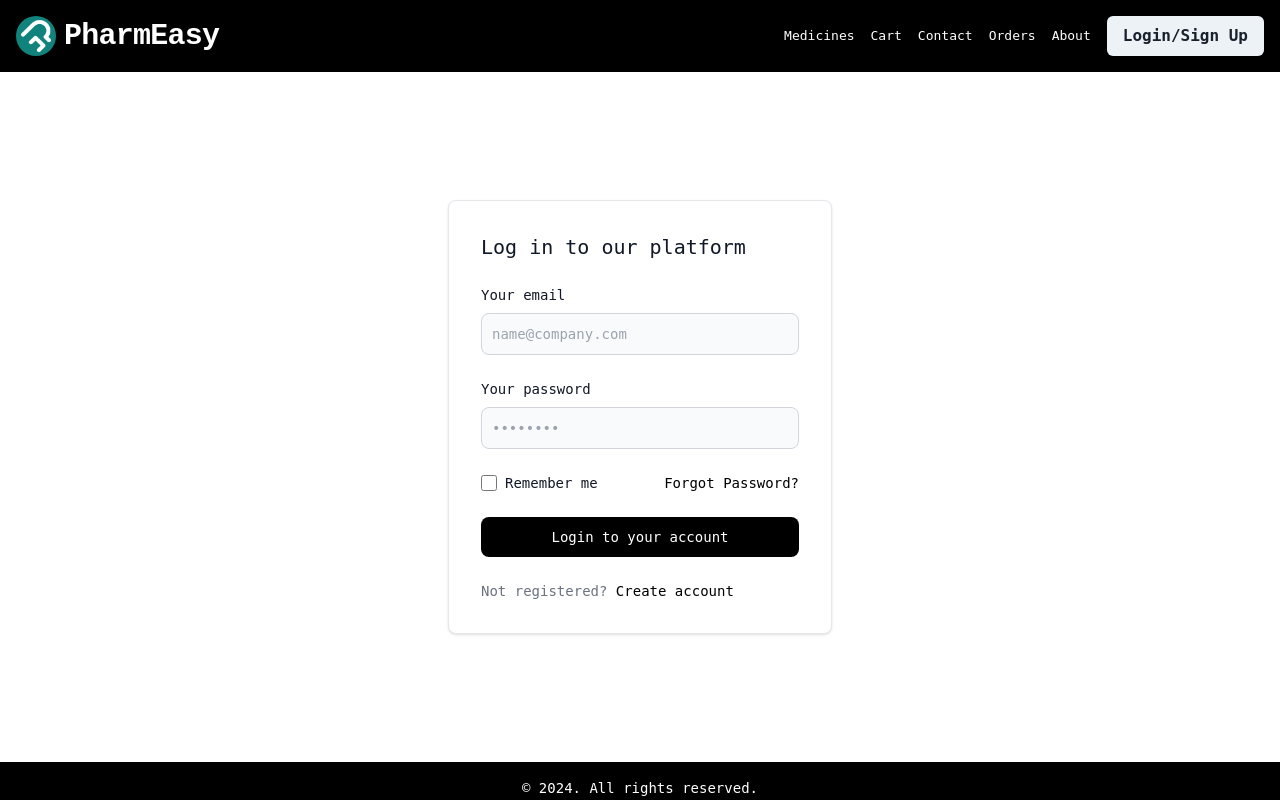
it: Login Component E2E Test › shows validation errors for empty fields
The image size is (1280, 800).
// Submit the form without filling it out
Click the submit button at (640, 537), box [481,517,799,557]
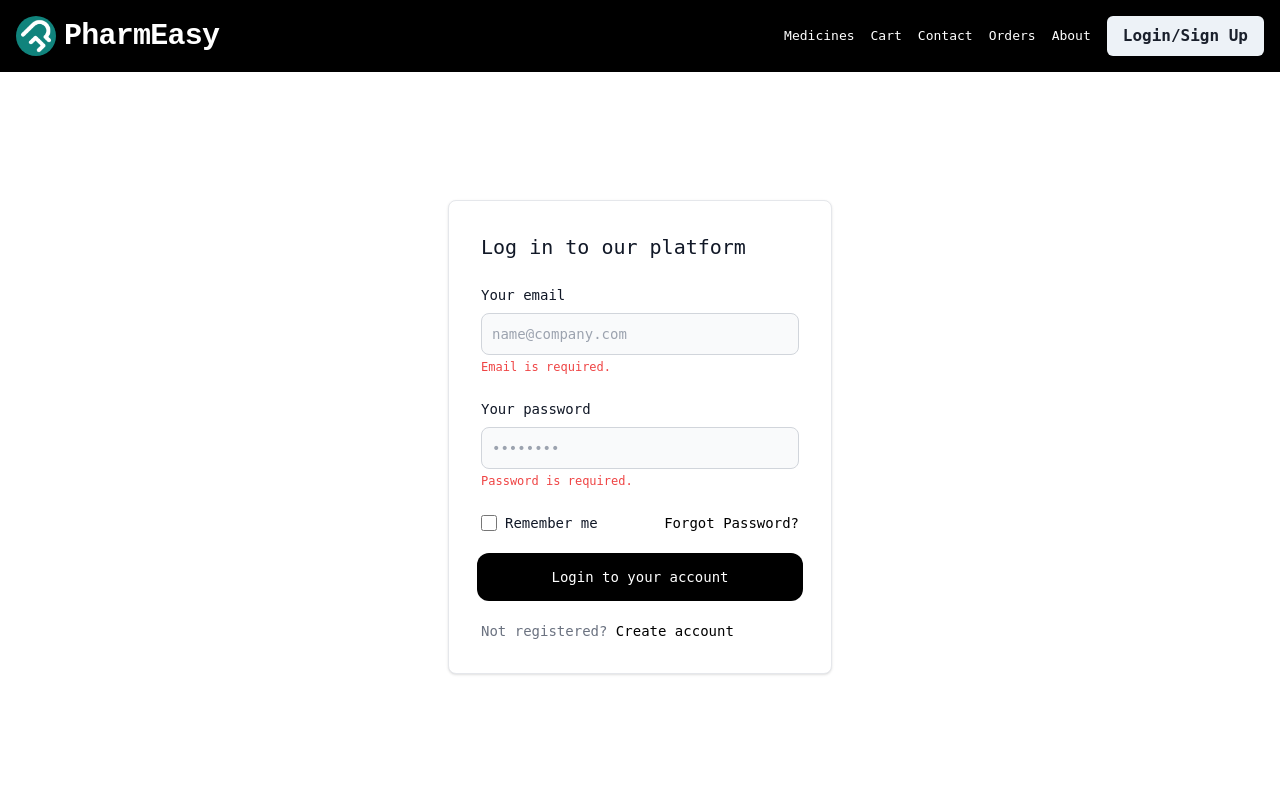
Now the text "Email is required." is shown, box [481,360,611,374]
Now the text "Password is required." is shown, box [481,474,633,488]
